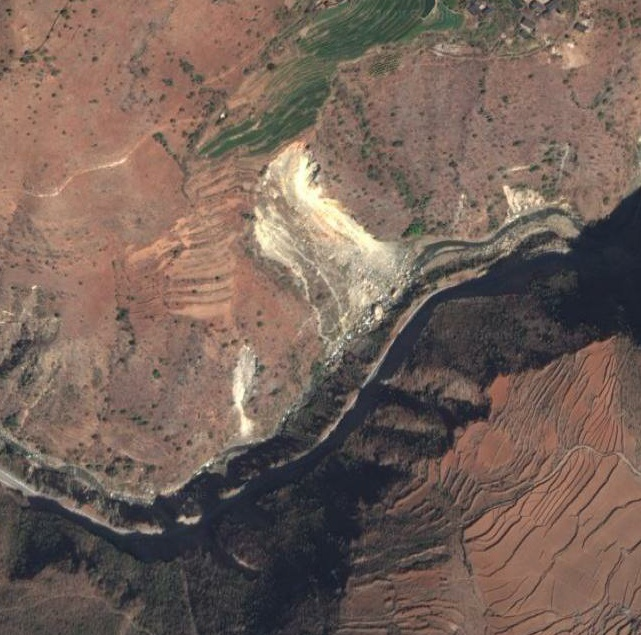slope: (244, 134, 421, 369), (227, 338, 264, 440), (500, 181, 545, 214)
